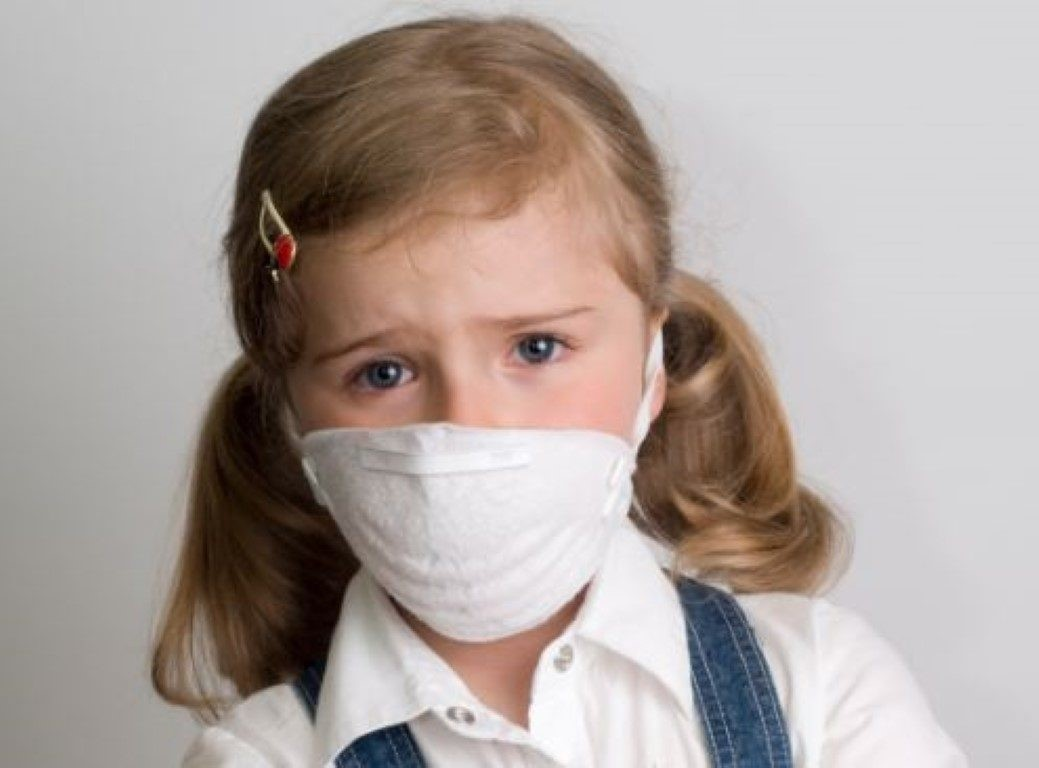face_with_mask: (227, 10, 673, 650)
